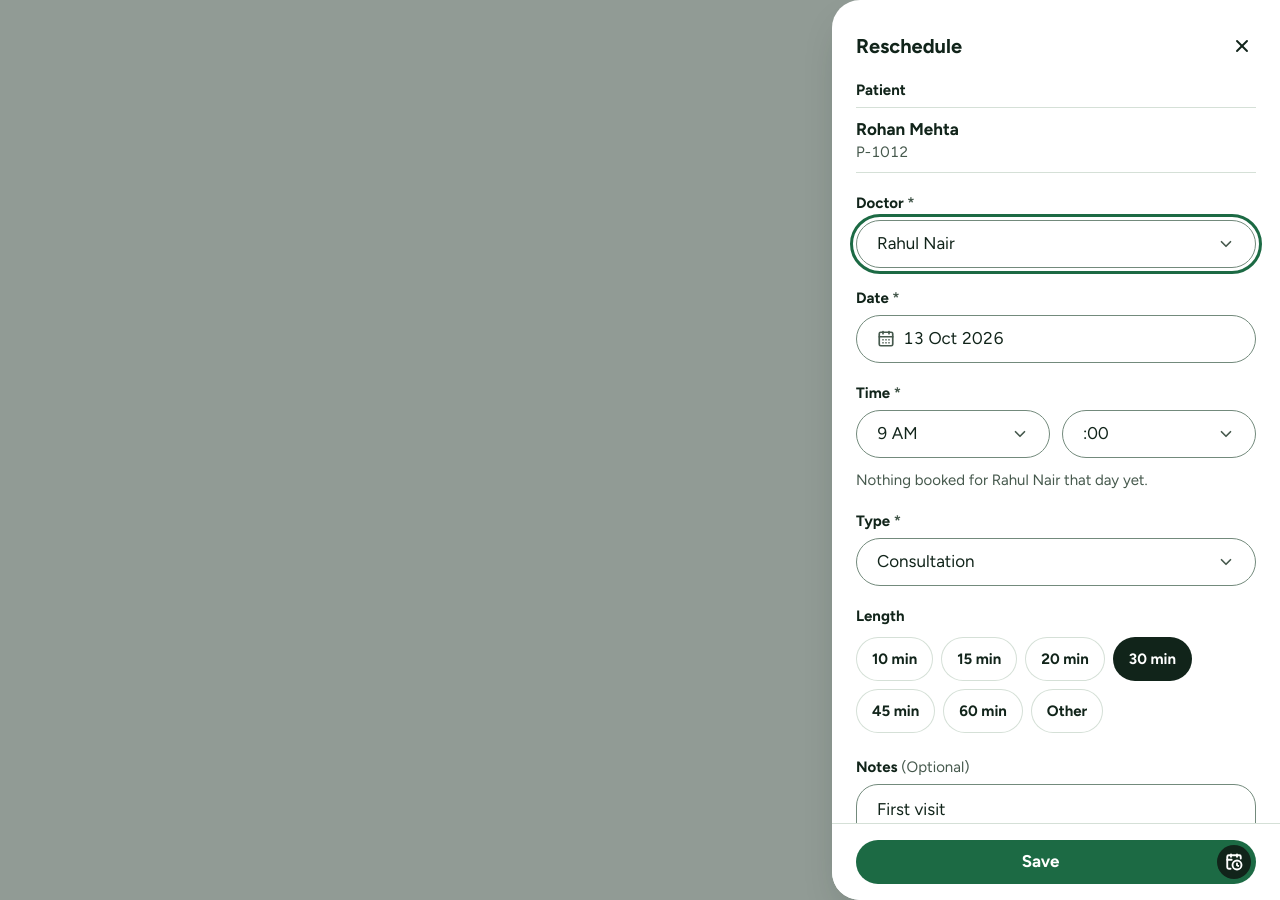
BookingSheet for a patient, and to move an appointment (D161, D166) › names a time taken when moved, and says plainly when it was not moved for another reason
The width and height of the screenshot is (1280, 900).
What coordinates should you click on to do the following:
click the button "Save"
I would click on:
 (1056, 862)
Its box is x1=856 y1=840 x2=1256 y2=884.
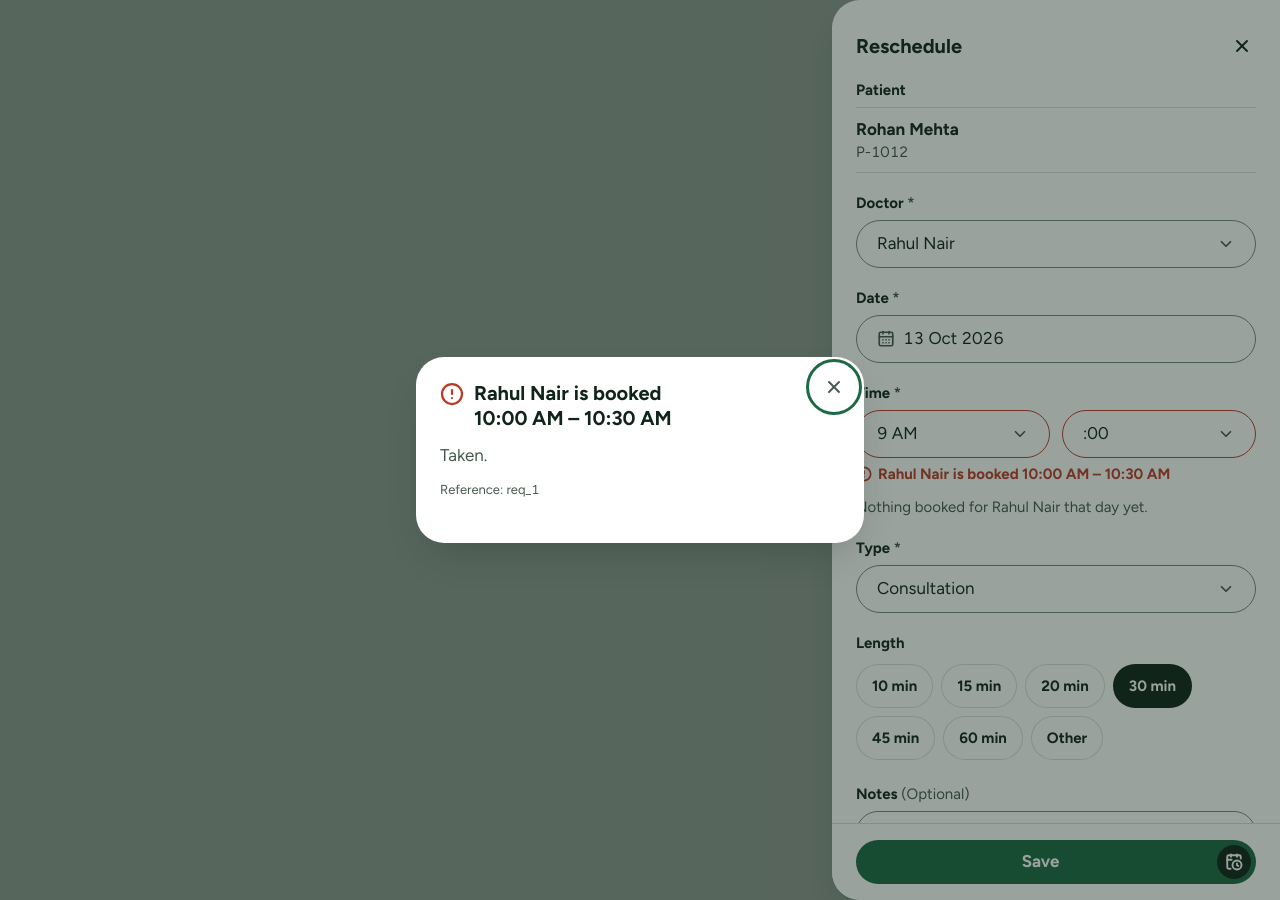
What coordinates should you click on to do the following:
click the button named "Close"
I would click on:
 (834, 388)
Its box is x1=812 y1=366 x2=856 y2=410.
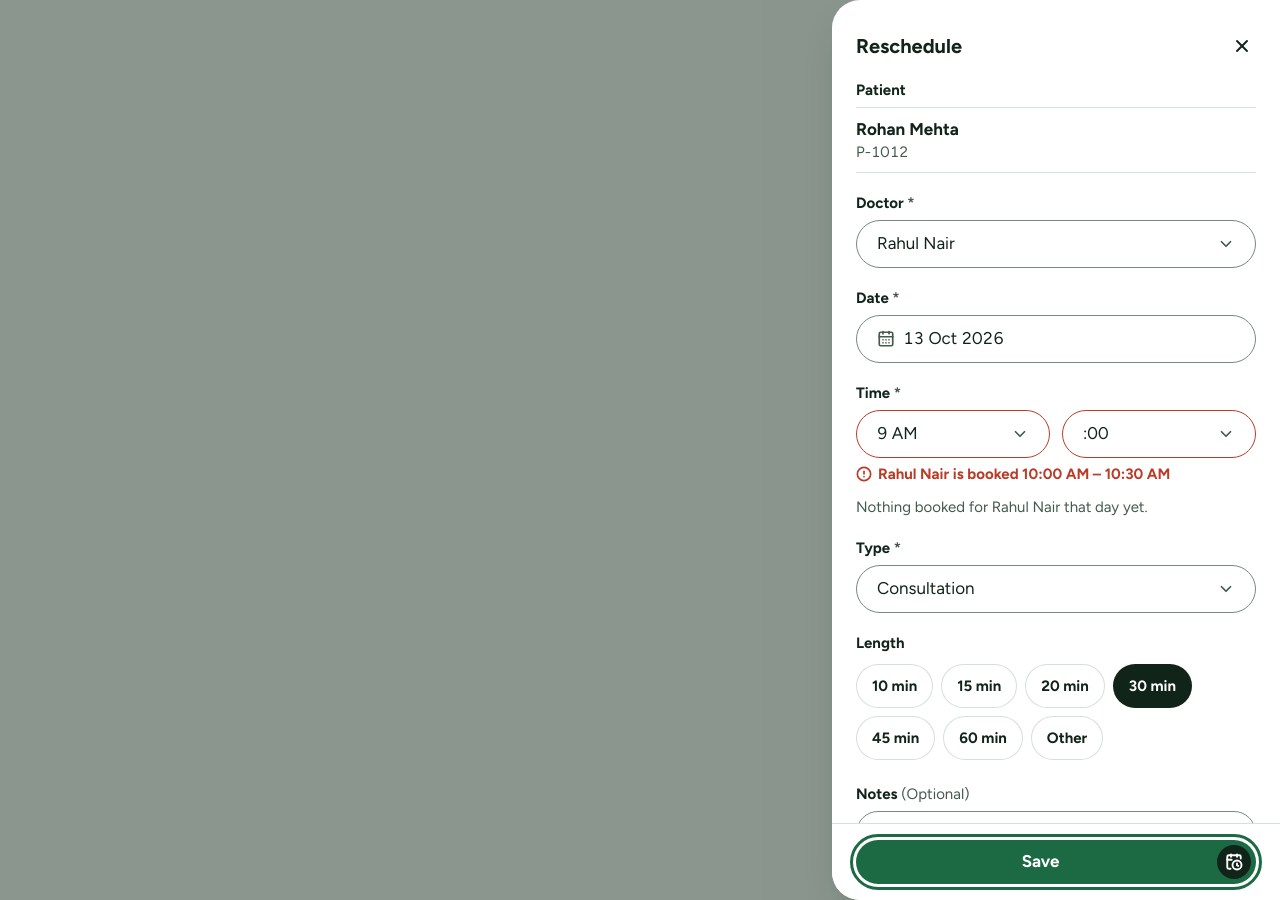
What coordinates should you click on to do the following:
click the button "Save"
I would click on:
 (1056, 862)
Its box is x1=856 y1=840 x2=1256 y2=884.
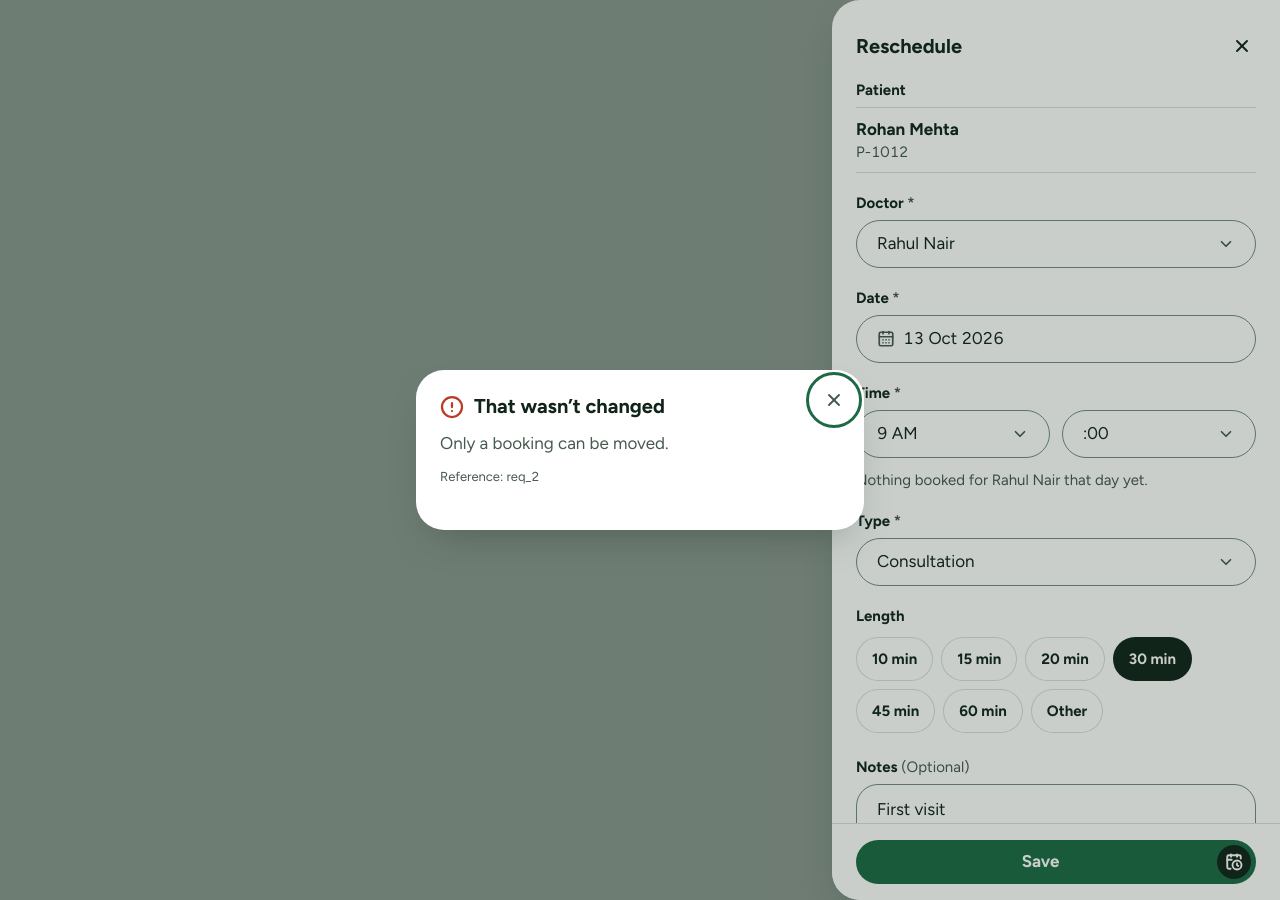
Result: the dialog "That wasn’t changed" shows "Only a booking can be moved." at x1=440 y1=433 x2=668 y2=453
